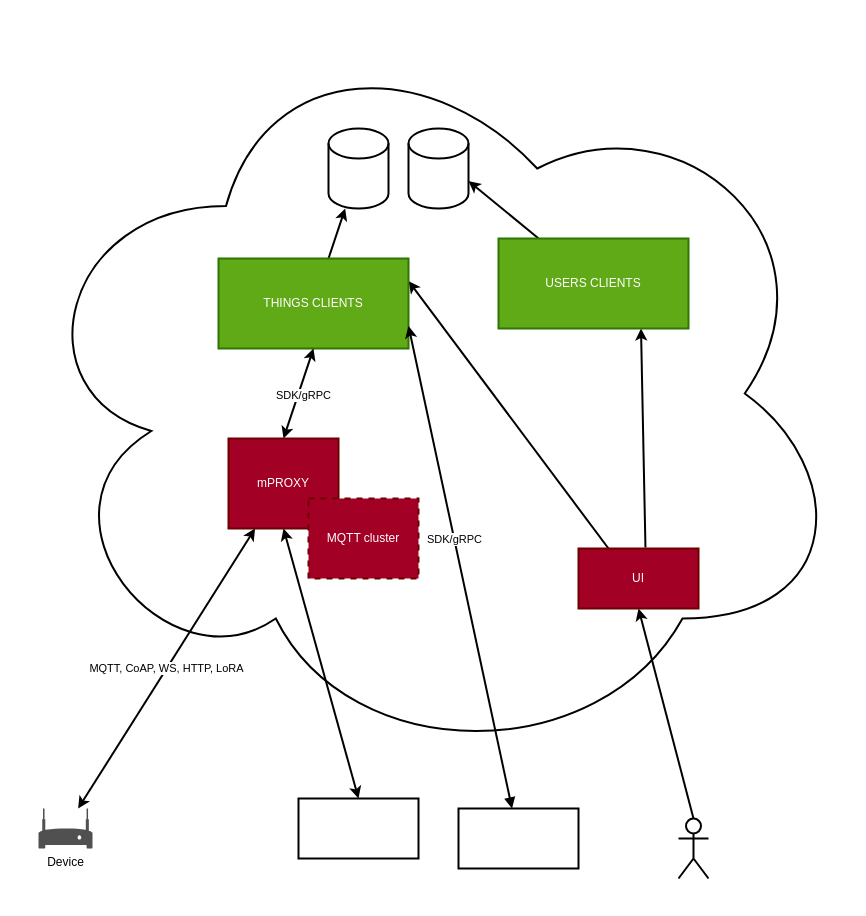
The diagram is 866 pixels wide and 916 high, and some of its shapes have lost their labels. Each missing label, with the centre of its shape:
"CoAP, WS, HTTP, LoRA target server" goes at pixel 358 828.
"CUSTOM SVC" goes at pixel 518 838.
"User" goes at pixel 693 848.
